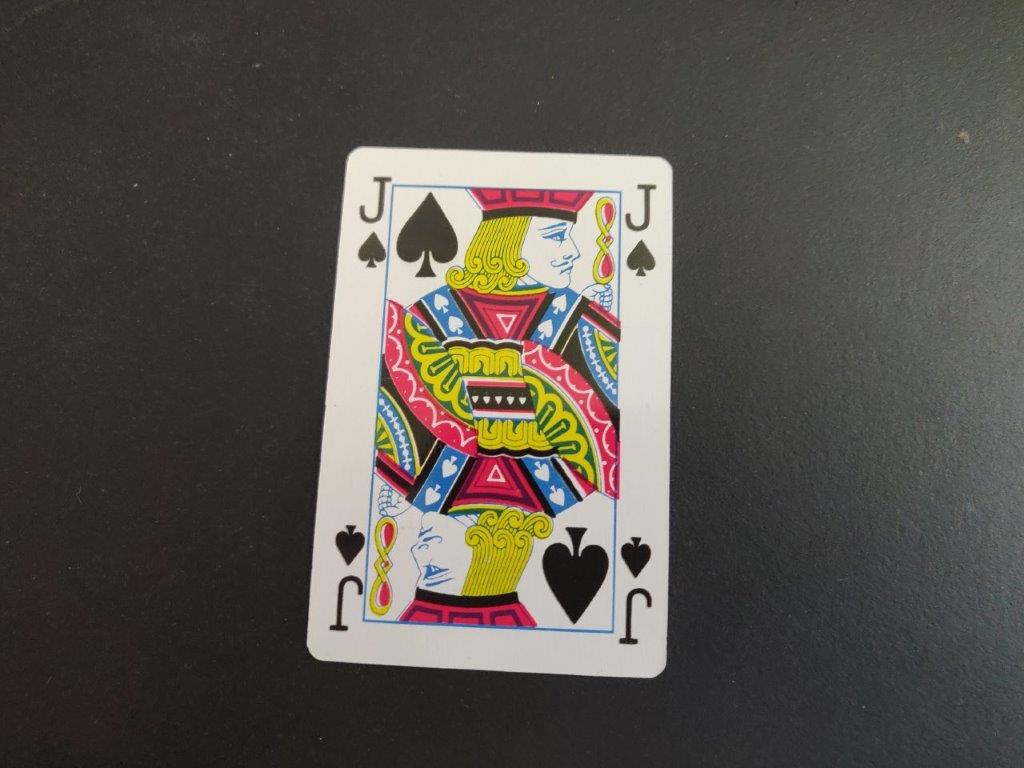JS: (354, 172, 395, 276), (620, 182, 661, 280)
